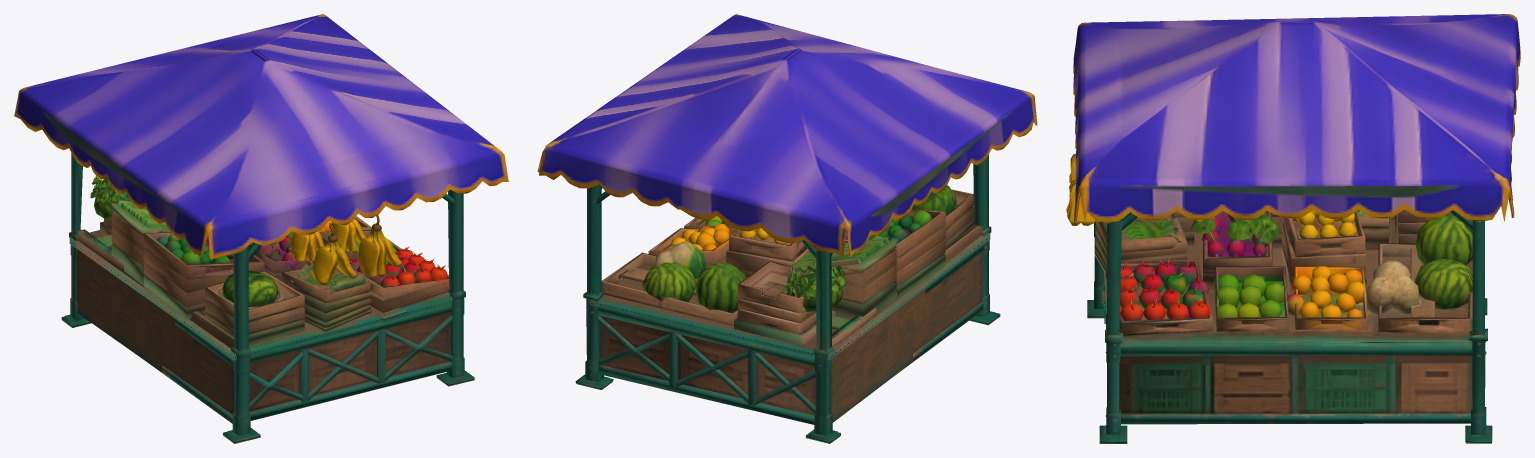
File: tripo_convert_bcb2f2b8-a598-4f25-b507-8f283fc23352.glb
3 views of the same model, side by side, from view 1: azimuth 30°, elevation 25°; view 2: azimuth 150°, elevation 25°; view 3: azimuth 270°, elevation 25° (orthographic). The views are drawn at different scales.
Visible parts, largest first — view 1: tripo_node_bcb2f2b8-a598-4f25-b507-8f283fc23352; view 2: tripo_node_bcb2f2b8-a598-4f25-b507-8f283fc23352; view 3: tripo_node_bcb2f2b8-a598-4f25-b507-8f283fc23352.
Part boxes in pixels (bbox=[...]): tripo_node_bcb2f2b8-a598-4f25-b507-8f283fc23352: bbox=[14, 14, 508, 443]; tripo_node_bcb2f2b8-a598-4f25-b507-8f283fc23352: bbox=[537, 14, 1037, 443]; tripo_node_bcb2f2b8-a598-4f25-b507-8f283fc23352: bbox=[1066, 14, 1520, 443].
Size of the model in its own units: 0.938 by 0.8442 by 0.9995.
Materials: 1 (1 with a texture image).
